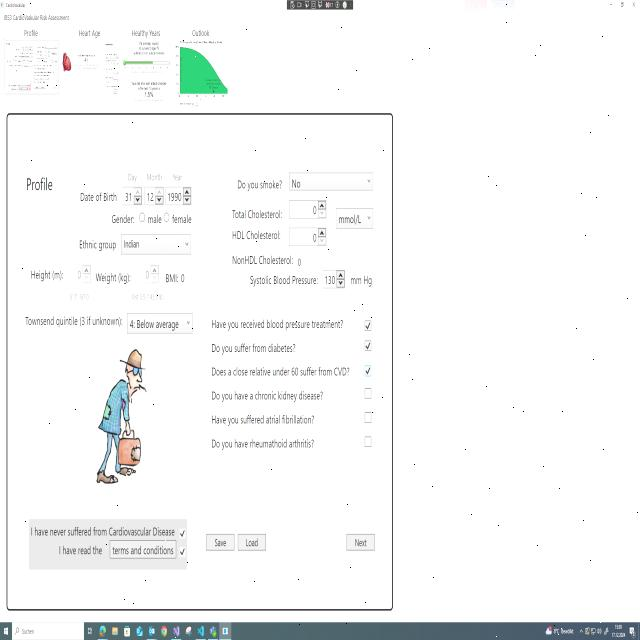button: (108, 539, 177, 564), (236, 528, 269, 556), (346, 528, 375, 556), (205, 527, 235, 554), (626, 0, 639, 11), (614, 0, 626, 11), (605, 0, 614, 9)
checkbox: (364, 407, 373, 429), (363, 385, 374, 402), (363, 316, 373, 333), (362, 337, 372, 354), (363, 434, 373, 450), (178, 546, 189, 560), (364, 363, 373, 379), (178, 526, 187, 541)
dropdownMenu: (287, 166, 375, 194), (120, 230, 195, 260), (126, 308, 194, 336), (333, 206, 376, 234)
input: (12, 623, 84, 640)
label: (208, 360, 356, 382), (27, 516, 176, 537), (209, 314, 350, 334), (208, 387, 328, 408), (210, 434, 320, 456), (21, 310, 125, 332), (208, 411, 322, 430), (242, 269, 322, 291), (228, 250, 309, 270), (210, 340, 301, 357), (54, 544, 103, 564), (72, 234, 118, 255), (228, 207, 286, 223), (228, 227, 286, 242), (235, 178, 286, 195), (21, 173, 61, 194), (24, 260, 64, 281), (94, 266, 132, 287), (348, 263, 376, 291), (1, 12, 75, 22), (74, 189, 118, 204), (129, 291, 169, 307), (165, 264, 191, 288), (74, 22, 104, 40), (126, 26, 166, 39), (171, 210, 195, 228), (66, 291, 94, 305), (188, 26, 215, 40), (108, 213, 136, 225), (146, 165, 164, 182), (20, 25, 41, 39), (125, 165, 140, 184), (147, 212, 162, 228), (170, 166, 183, 182)
radio: (163, 210, 170, 224), (138, 212, 146, 224)
upDown: (287, 196, 329, 221), (288, 224, 328, 249), (134, 261, 160, 288), (321, 267, 347, 293), (165, 185, 194, 208), (66, 261, 92, 285), (122, 185, 143, 208), (144, 184, 164, 208)
